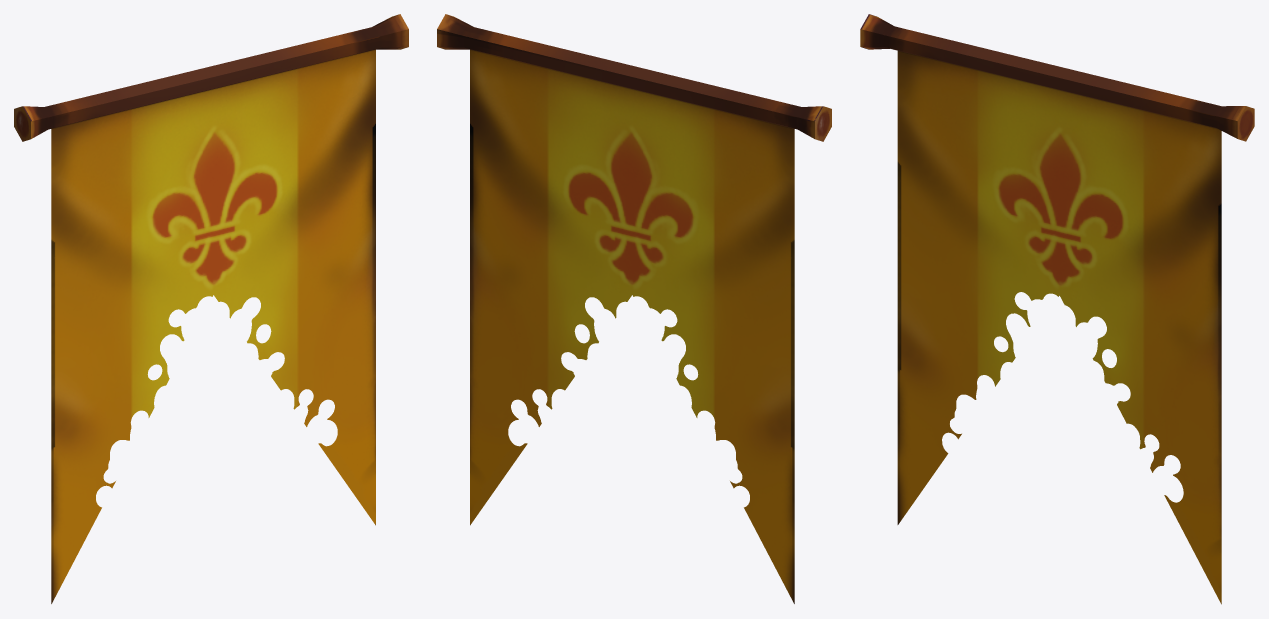
The model's file is Obj_flag.fbx.
3 views of the same model, side by side, from view 1: azimuth 30°, elevation 25°; view 2: azimuth 150°, elevation 25°; view 3: azimuth 330°, elevation 25° (orthographic).
Parts seen in each view (by area): view 1: Obj_flag_down; view 2: Obj_flag_down; view 3: Obj_flag_down.
Boxes of the visible parts, x1=… form: Obj_flag_down: x1=14, y1=14, x2=408, y2=603; Obj_flag_down: x1=437, y1=14, x2=831, y2=603; Obj_flag_down: x1=860, y1=14, x2=1254, y2=604.
Bounding box in the file's own units: 2.06 × 2.64 × 0.1614.
